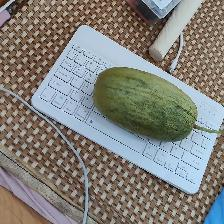gua: (97, 74, 194, 139)
